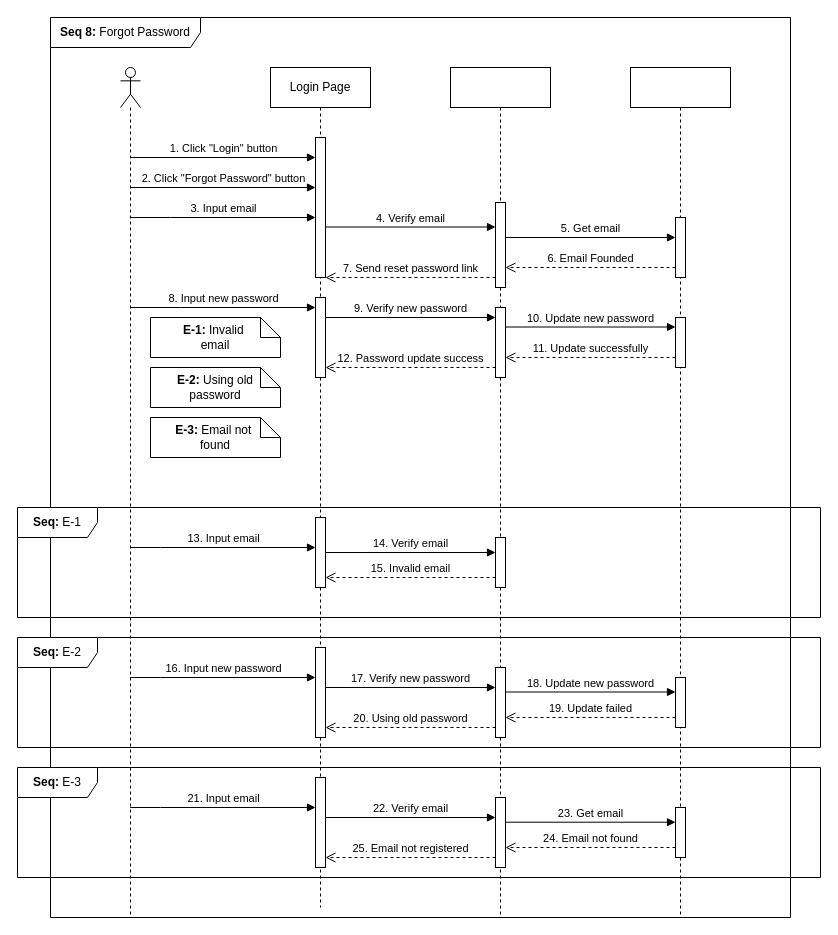
Image size: 838x935. Some labels were removed from this diagram. Each missing label, with the box of its shape:
Authentication Controller: (450, 66, 550, 918)
User Database: (630, 66, 730, 918)
